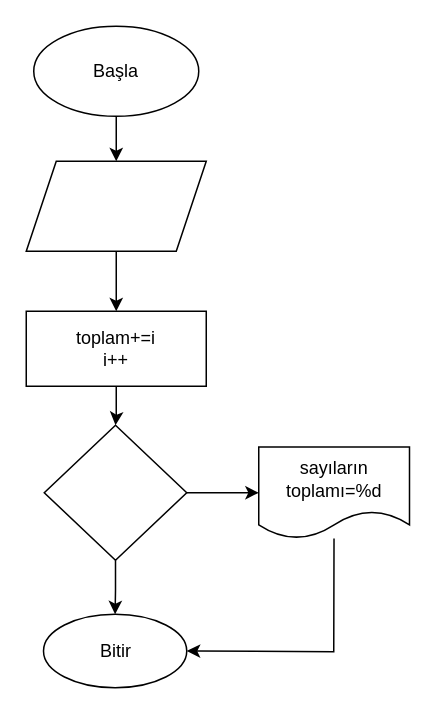
Some shapes in this 437 by 714 pixel diagram are drawn without their labels. The box of each missing label's shape, as (x1, y1, x2, y2) in pixels:
i<=sayi: (43, 424, 187, 560)
sayi,i=1,toplam=0: (25, 160, 206, 251)
